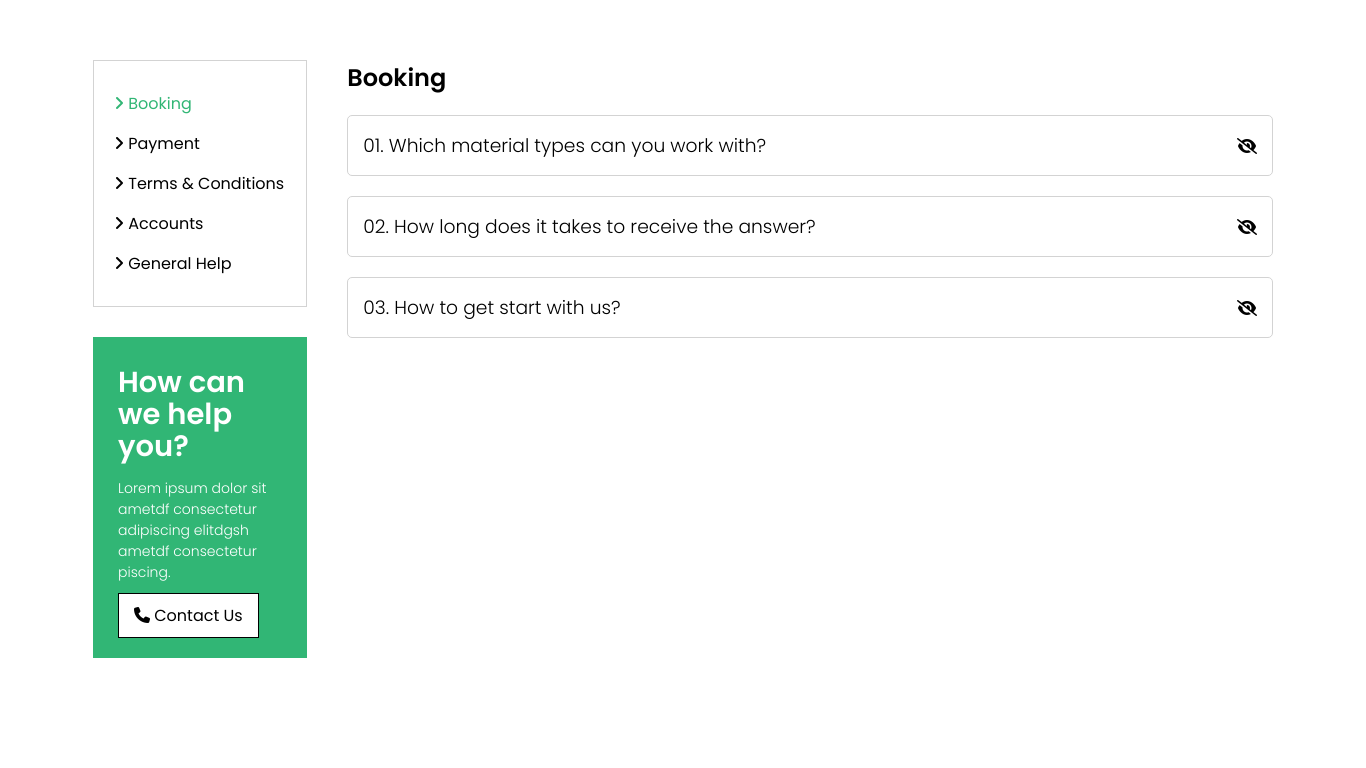
Test case: FaqLayout › should choose the appropriate accordion
The width and height of the screenshot is (1366, 768).
Click the link "Payment" at (157, 144), box [114,132,200,155]
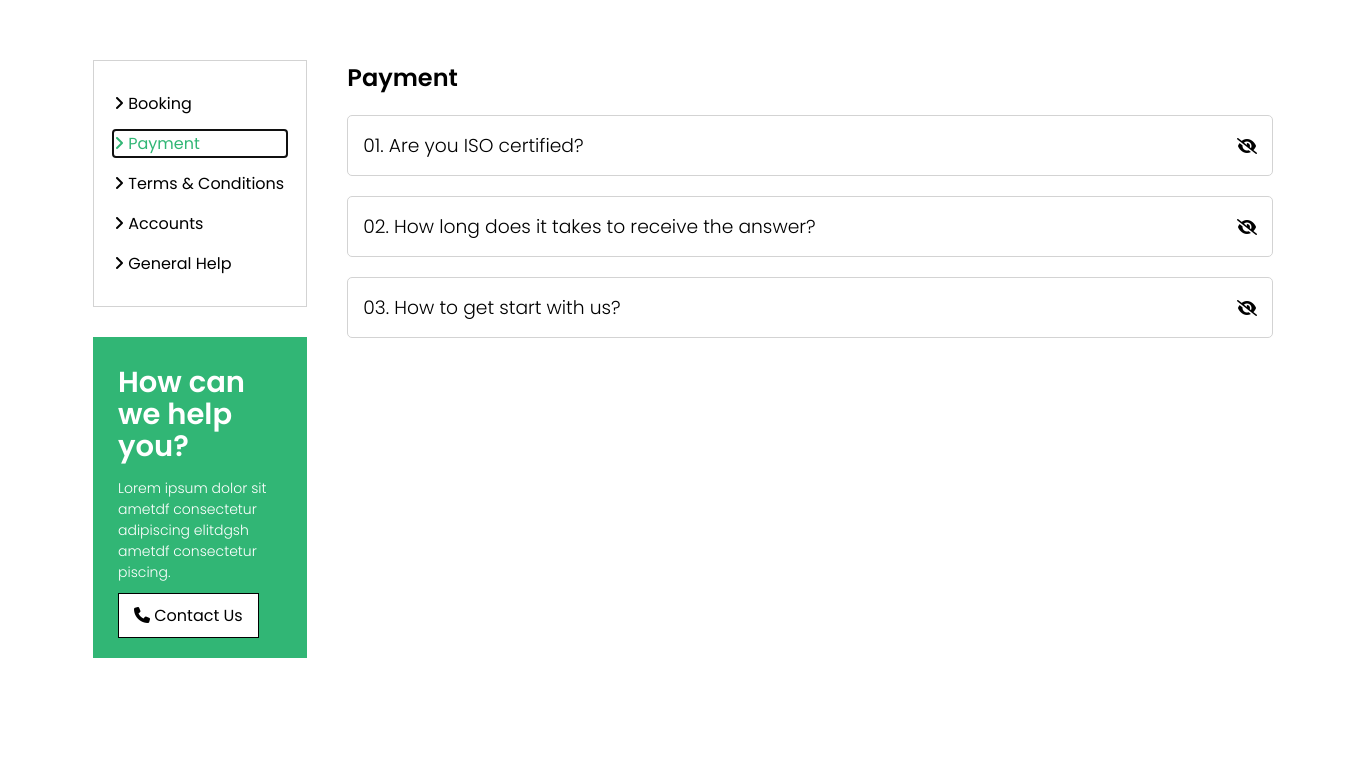
Result: the heading "Payment" is shown at [347,61,458,94]
